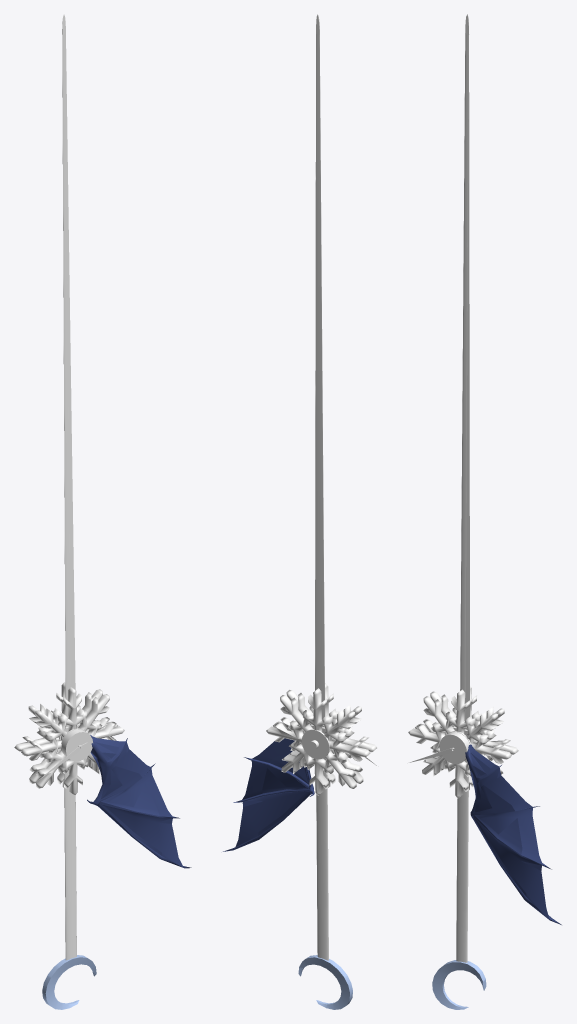
The model's file is DustOfSnow.obj.
3 views of the same model, side by side, from view 1: azimuth 30°, elevation 25°; view 2: azimuth 150°, elevation 25°; view 3: azimuth 330°, elevation 25° (orthographic).
Visible parts, largest first — view 1: DustOfSnow1:polySurface22, DustOfSnow1:polySurface23, DustOfSnow1:polySurface10, DustOfSnow1:polySurface9; view 2: DustOfSnow1:polySurface22, DustOfSnow1:polySurface9, DustOfSnow1:polySurface23, DustOfSnow1:polySurface10; view 3: DustOfSnow1:polySurface22, DustOfSnow1:polySurface23, DustOfSnow1:polySurface10, DustOfSnow1:polySurface9.
Part boxes in pixels (bbox=[...]): DustOfSnow1:polySurface22: bbox=[42, 14, 96, 1009]; DustOfSnow1:polySurface23: bbox=[62, 729, 191, 868]; DustOfSnow1:polySurface10: bbox=[21, 687, 124, 795]; DustOfSnow1:polySurface9: bbox=[14, 682, 117, 787]; DustOfSnow1:polySurface22: bbox=[298, 14, 352, 1009]; DustOfSnow1:polySurface9: bbox=[266, 688, 370, 795]; DustOfSnow1:polySurface23: bbox=[223, 738, 314, 851]; DustOfSnow1:polySurface10: bbox=[273, 683, 376, 787]; DustOfSnow1:polySurface22: bbox=[432, 14, 486, 1009]; DustOfSnow1:polySurface23: bbox=[439, 732, 561, 924]; DustOfSnow1:polySurface10: bbox=[408, 689, 511, 798]; DustOfSnow1:polySurface9: bbox=[415, 686, 518, 789].
Size of what is drawn, in the model's own units: 3.2 by 18.66 by 0.8529.
